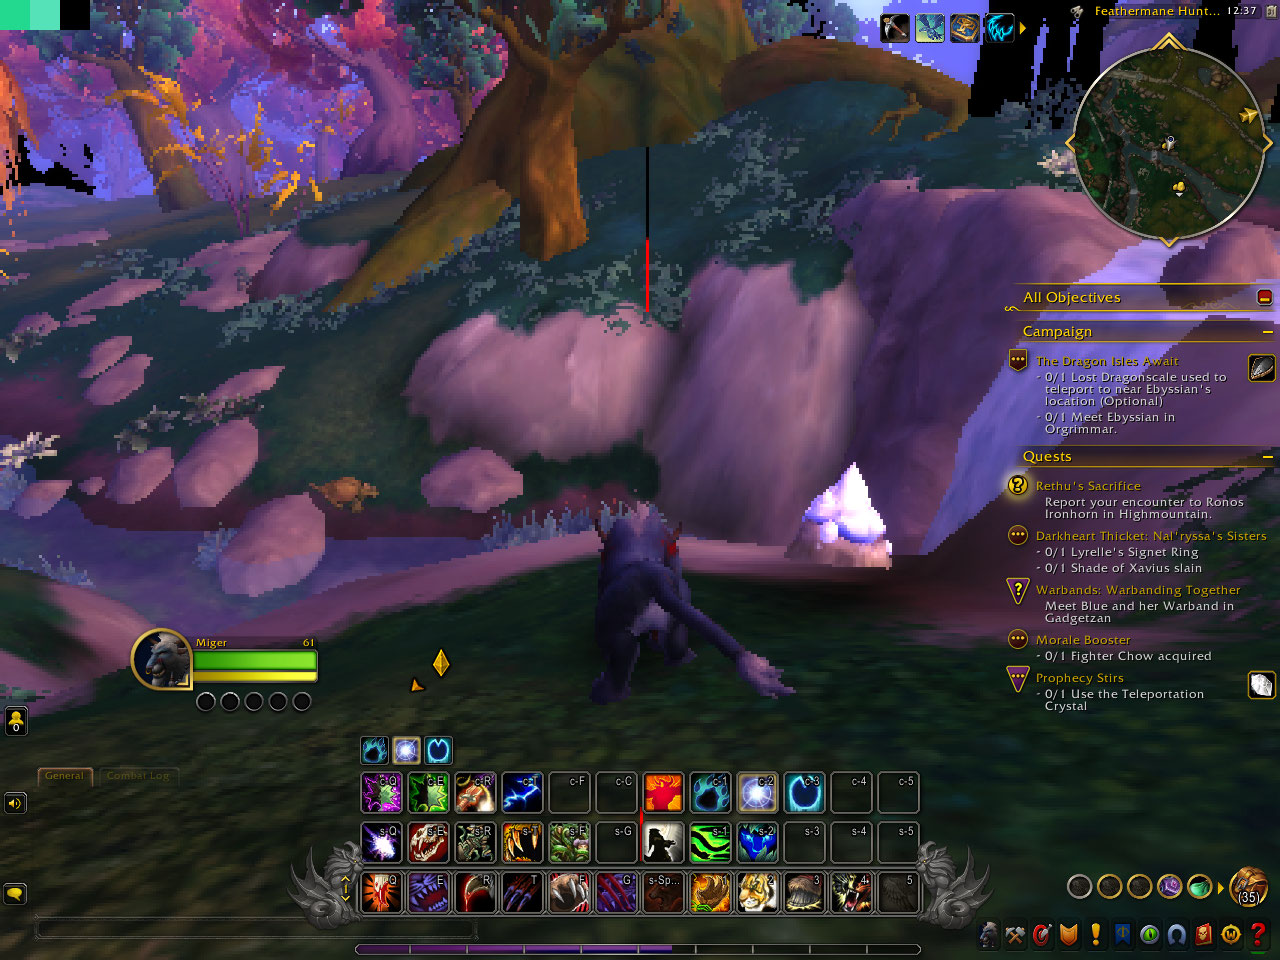ore: (786, 464, 894, 572)
